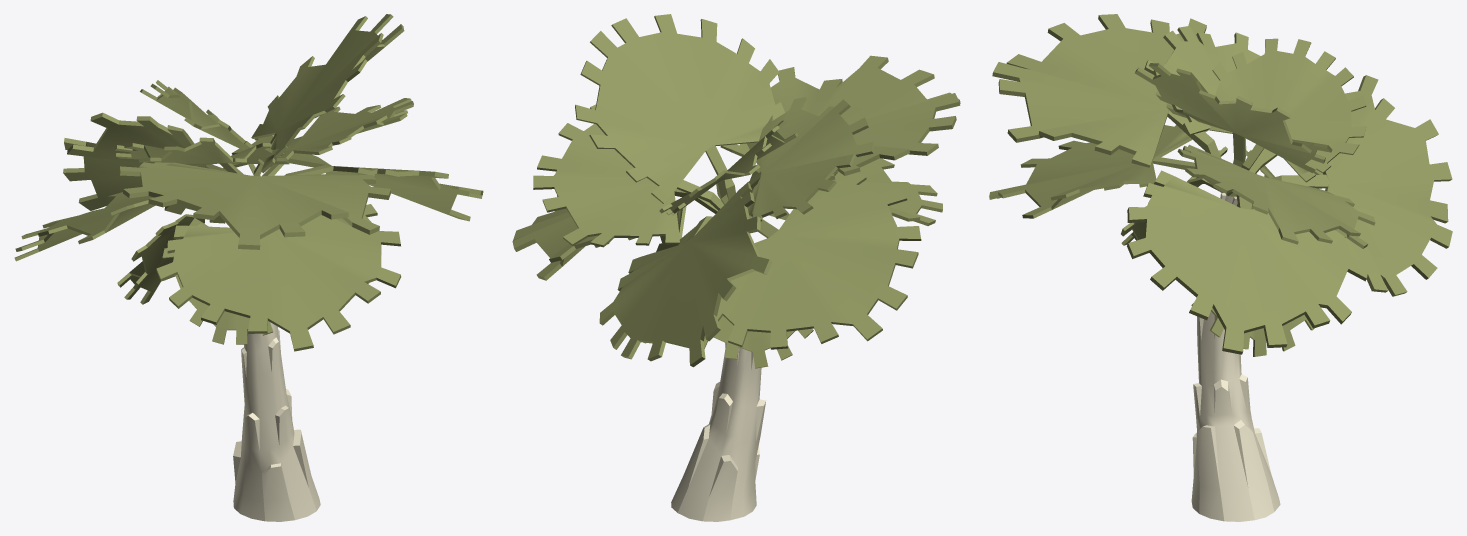
File: tree10.fbx
3 views of the same model, side by side, from view 1: azimuth 30°, elevation 25°; view 2: azimuth 150°, elevation 25°; view 3: azimuth 270°, elevation 25° (orthographic). The views are drawn at different scales.
Visible parts, largest first — view 1: Palm1_Crown_4, Palm1_3; view 2: Palm1_Crown_4, Palm1_3; view 3: Palm1_Crown_4, Palm1_3.
Boxes of the visible parts, bbox=[...] form: Palm1_Crown_4: bbox=[14, 14, 483, 351]; Palm1_3: bbox=[233, 322, 320, 521]; Palm1_Crown_4: bbox=[512, 14, 960, 368]; Palm1_3: bbox=[671, 238, 765, 521]; Palm1_Crown_4: bbox=[989, 14, 1452, 356]; Palm1_3: bbox=[1191, 192, 1280, 521].
Bounding box in the file's own units: 18.44 × 19.79 × 17.64.
